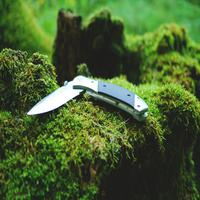knife: (20, 69, 158, 134)
